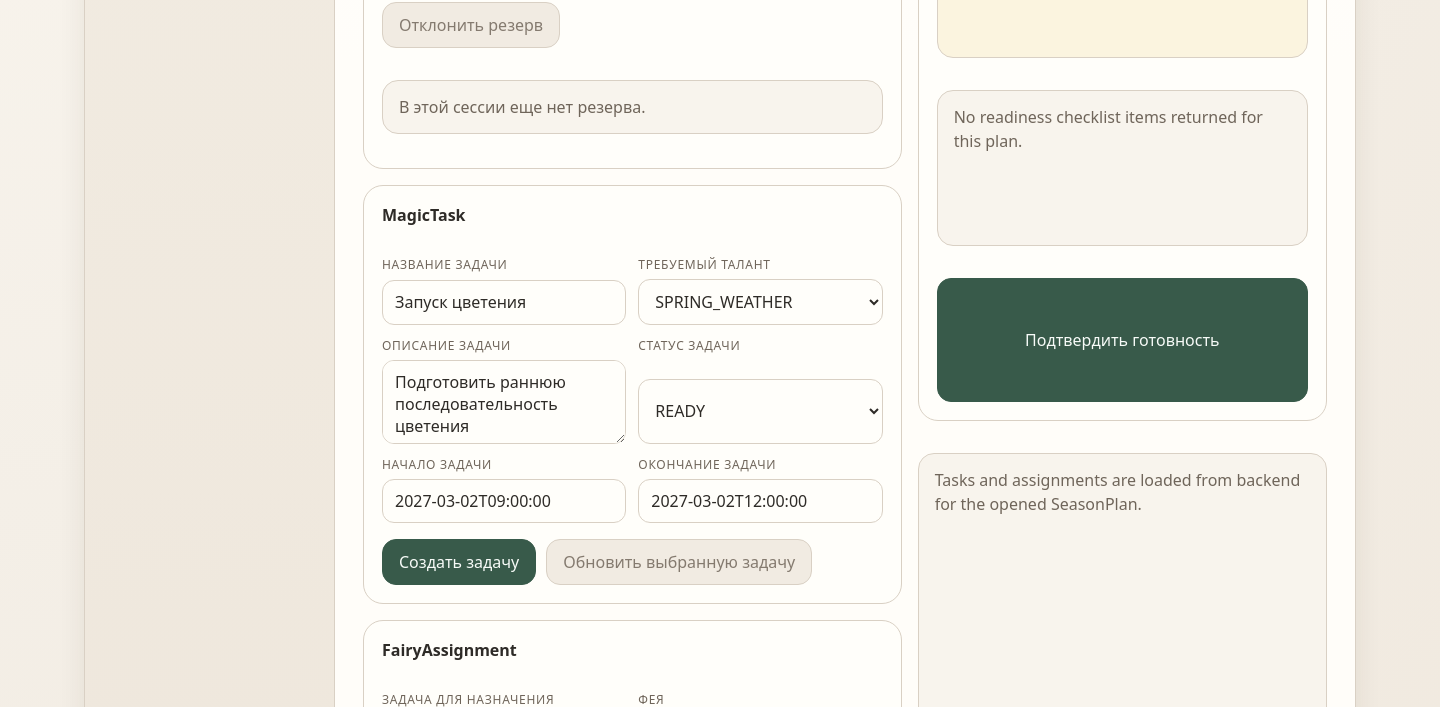
Test case: PreparationPage › displays readiness errors and marks ritual ready after success
This screenshot has width=1440, height=707.
(page scrolled)
Click the button "Подтвердить готовность".
click(1122, 340)  # box [937, 278, 1308, 402]
(page scrolled)
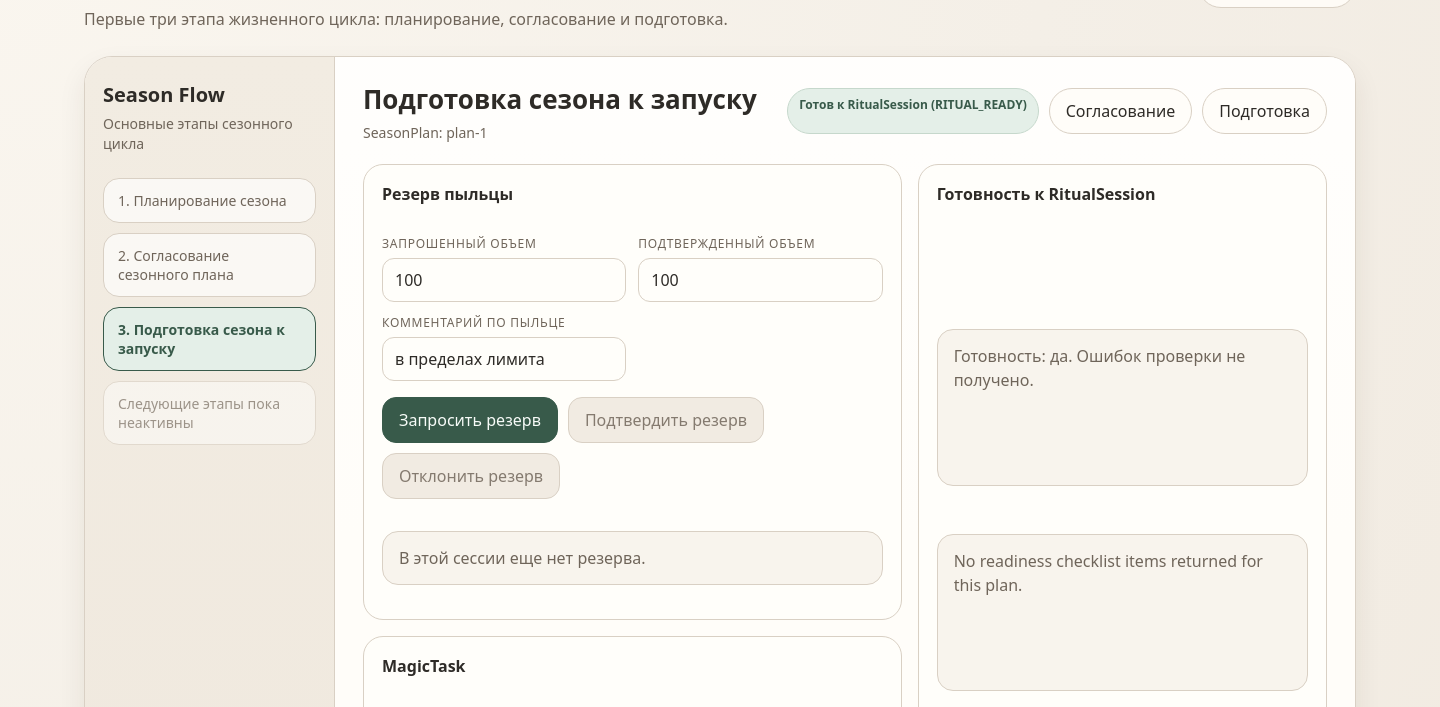
Expected: the text "Готов к RitualSession (RITUAL_READY)" is shown, [787, 88, 1039, 134]
